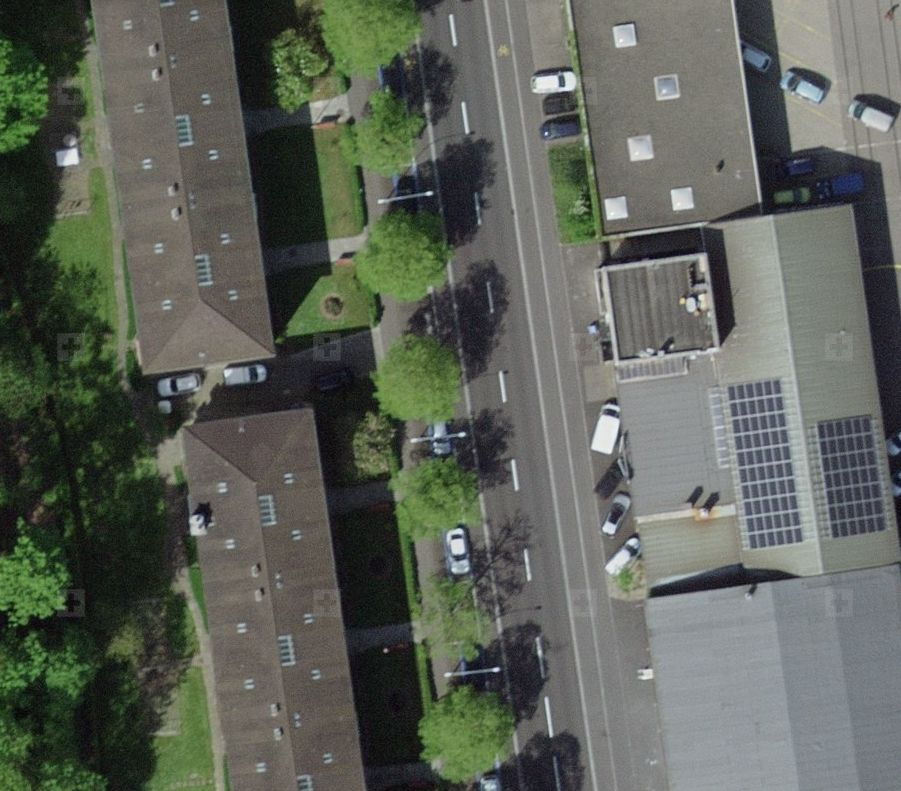solar: (725, 375, 806, 552), (818, 412, 889, 542)
